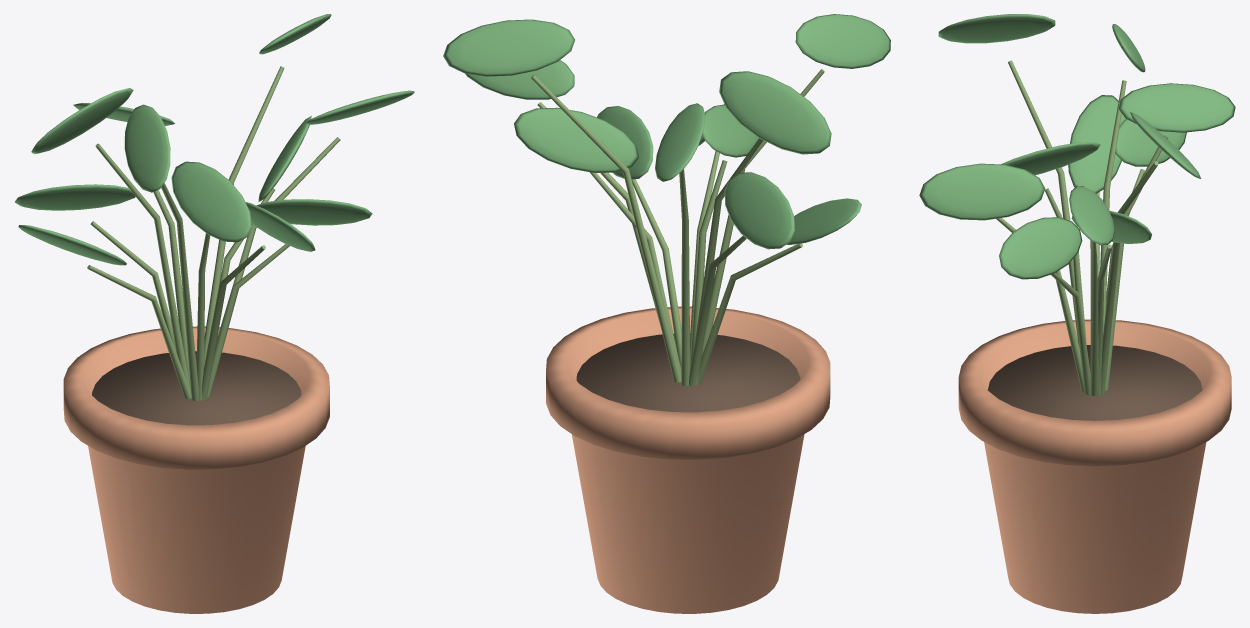
The model's file is plant.glb.
The picture shows the model from 3 angles, left to right: view 1: azimuth 30°, elevation 25°; view 2: azimuth 150°, elevation 25°; view 3: azimuth 270°, elevation 25°; orthographic projection. The views are drawn at different scales.
Visible parts, largest first — view 1: plant; view 2: plant; view 3: plant.
Boxes of the visible parts, x1,y1,x2,y2 form: plant: (15, 14, 414, 613); plant: (443, 14, 890, 613); plant: (919, 14, 1235, 613).
Size of the model in its own units: 1.57 by 1.99 by 1.09.
